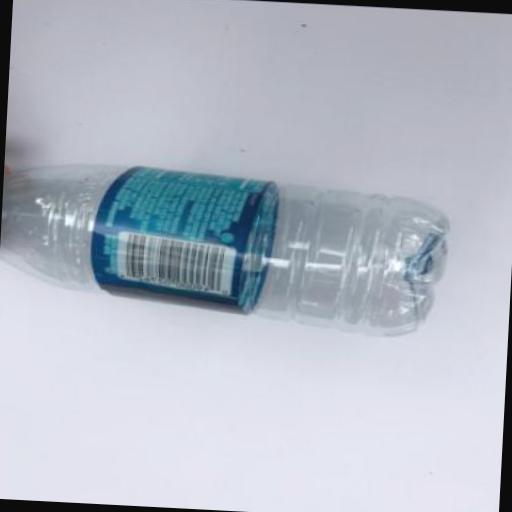plastic: (0, 157, 452, 340), (88, 163, 282, 316)
